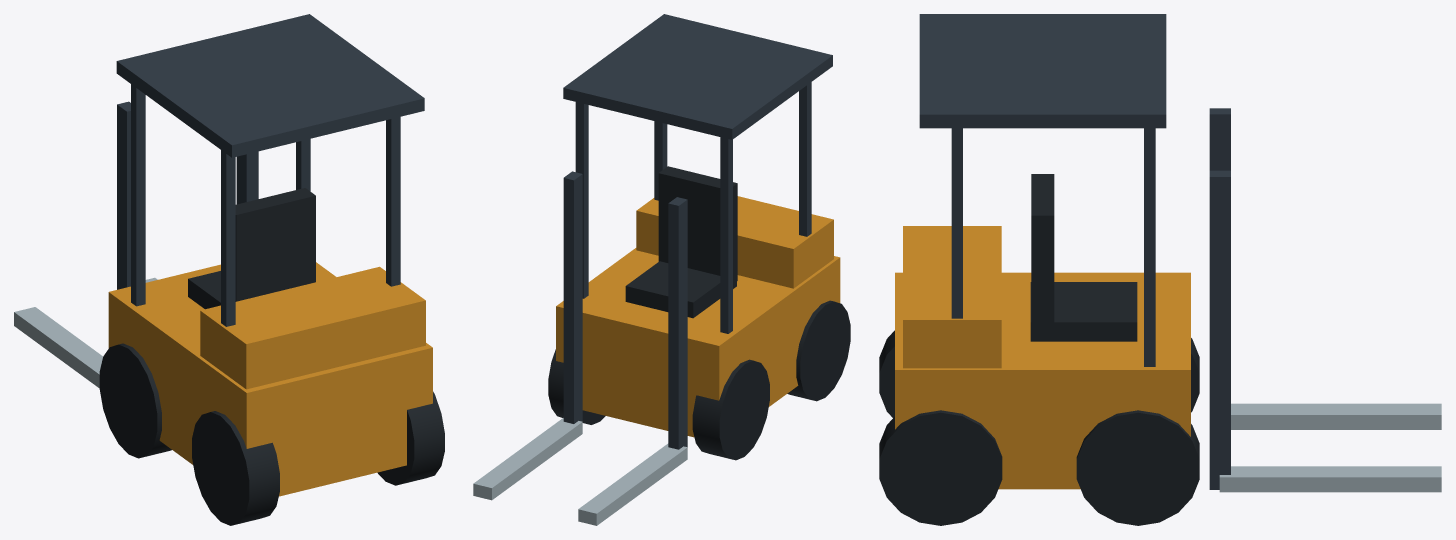
The model's file is forklift.glb.
3 renders of one model, left to right at view 1: azimuth 30°, elevation 25°; view 2: azimuth 150°, elevation 25°; view 3: azimuth 270°, elevation 25°, orthographic. The views are drawn at different scales.
Parts seen in each view (by area): view 1: forklift; view 2: forklift; view 3: forklift.
Part boxes in pixels (x1=…): forklift: x1=14, y1=14, x2=444, y2=525; forklift: x1=473, y1=14, x2=850, y2=525; forklift: x1=879, y1=14, x2=1441, y2=525.
Bounding box in the file's own units: 1.47 × 2.76 × 3.42.
